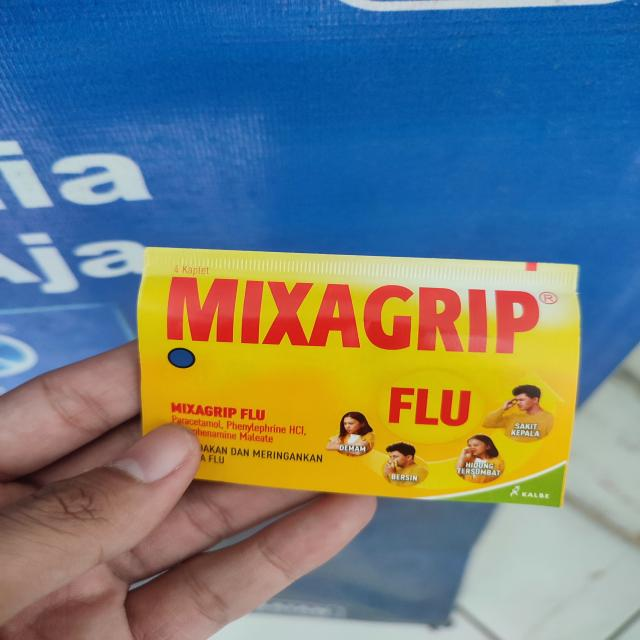B3: (133, 245, 581, 512)
